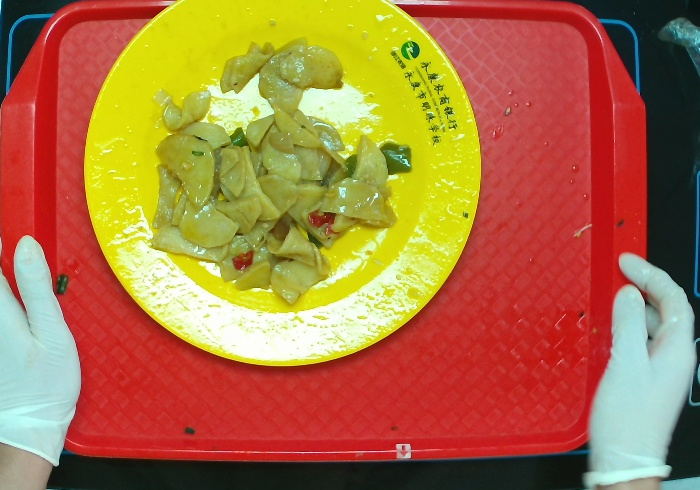YKMZ-Huang_Se_Mian_Pan: (82, 1, 482, 371)
